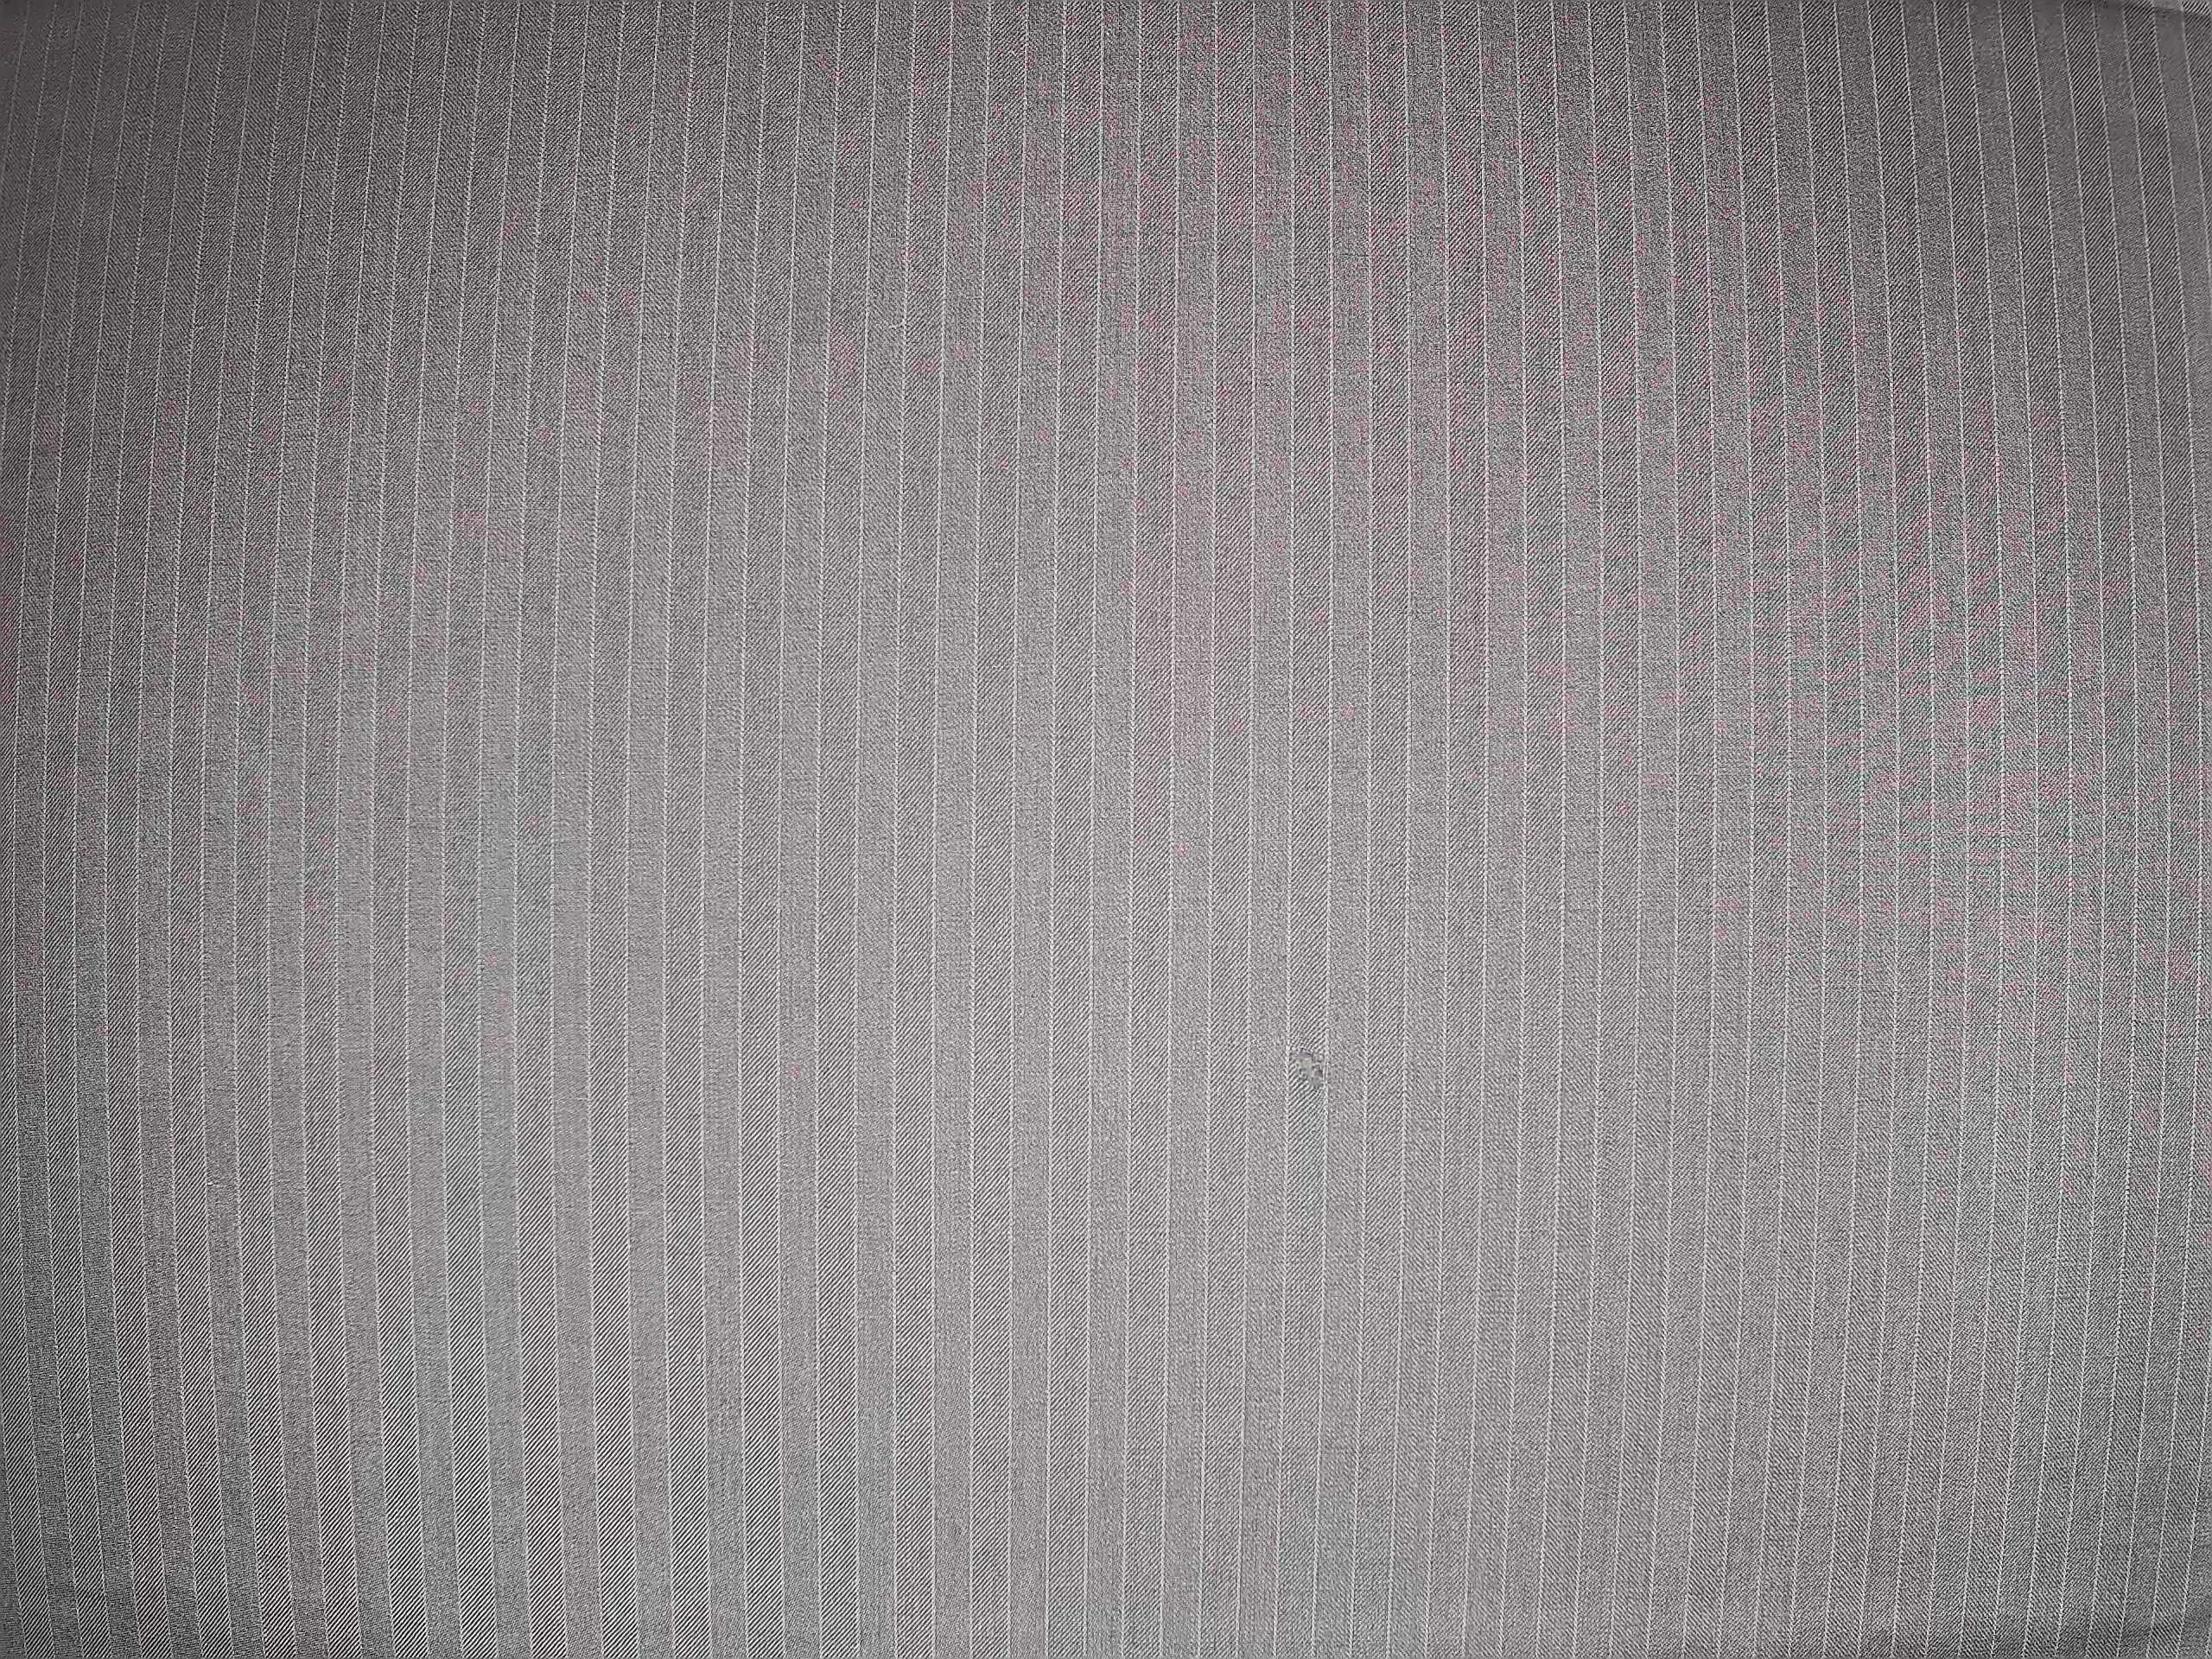rubbing-hole: (1280, 1037, 1341, 1101)
